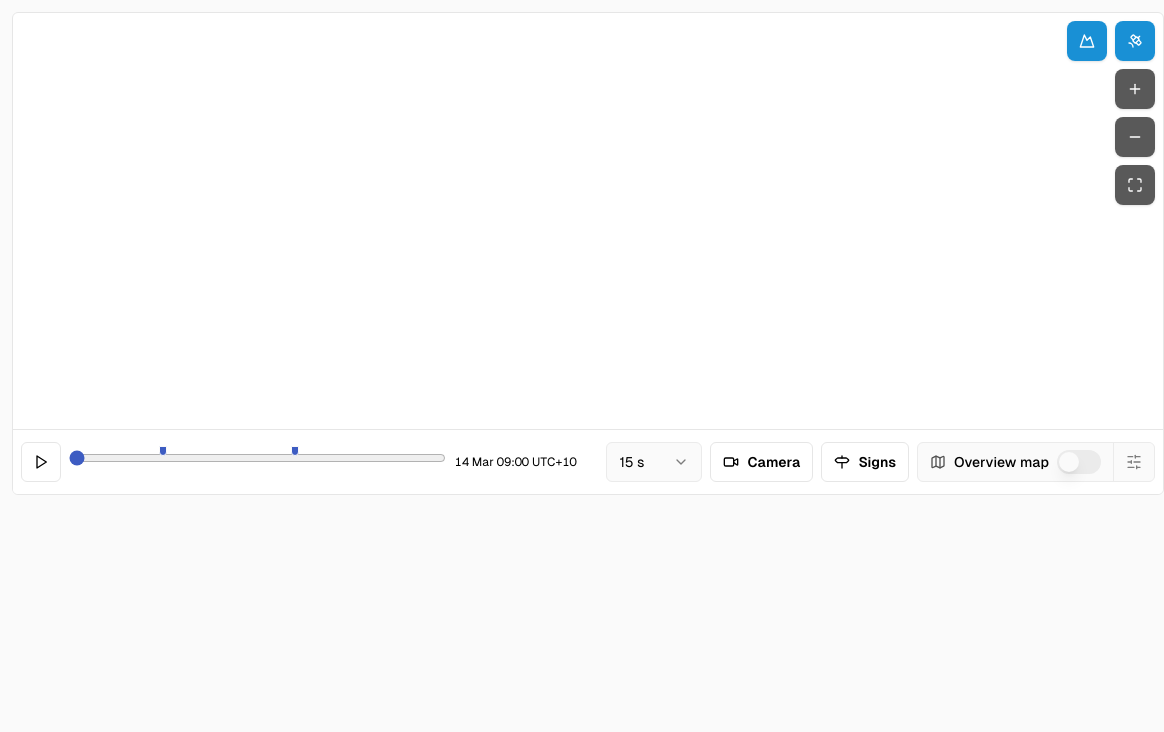
Test case: ReplayPanel camera robustness › names the shot being edited, with its number, start and end
Click the button "Camera": x=762, y=462 [710,442,814,482]
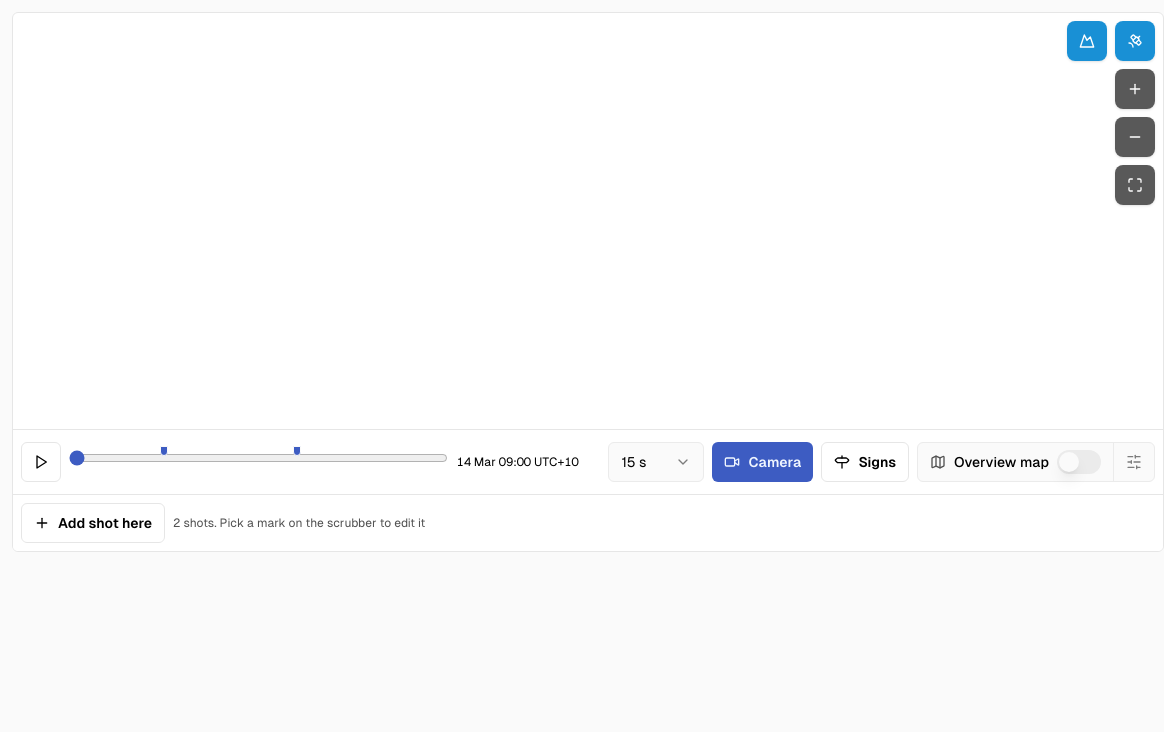
Expected: the text "2 shots. Pick a mark on the scrubber to edit it" is shown, [173,515,425,531]
Click the button named "Camera shot": x=164, y=451 [160,446,168,456]
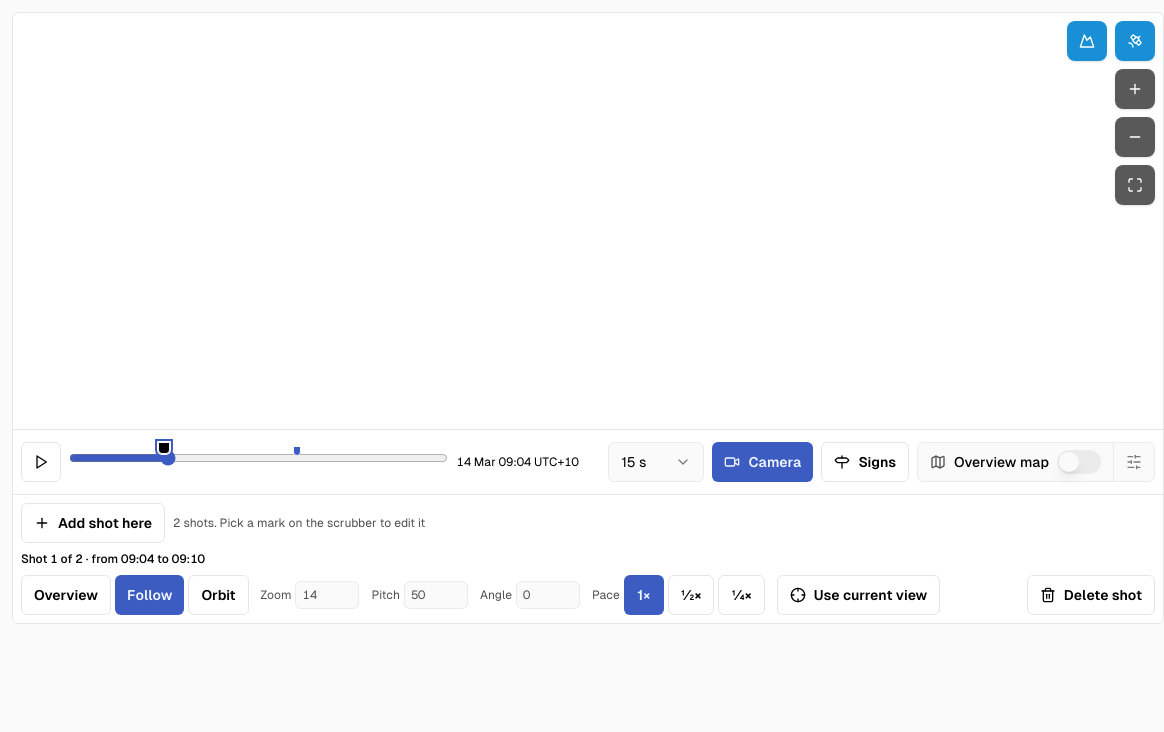
Expected: the text with test id "camera-shot-heading" reads "Shot 1 of 2 · from 09:04 to 09:10", [21,552,205,566]
Click the button named "Camera shot": x=297, y=451 [293,446,301,456]
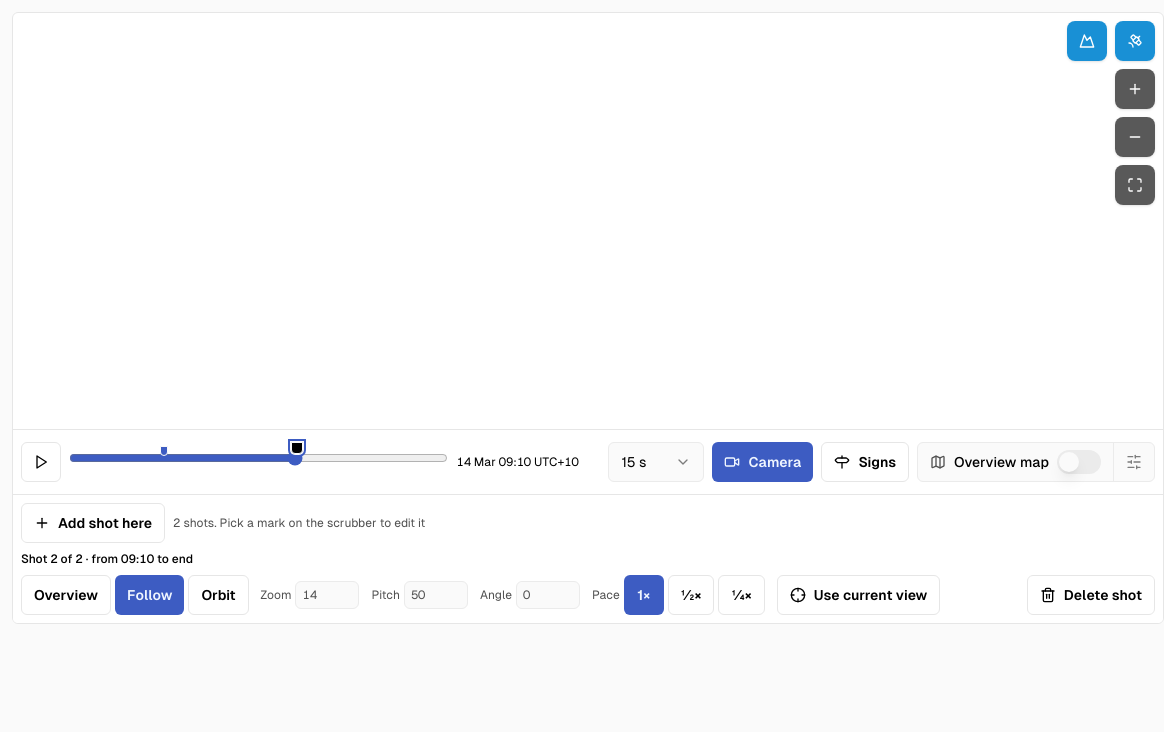
Expected: the text with test id "camera-shot-heading" reads "Shot 2 of 2 · from 09:10 to end", [21,552,193,566]
